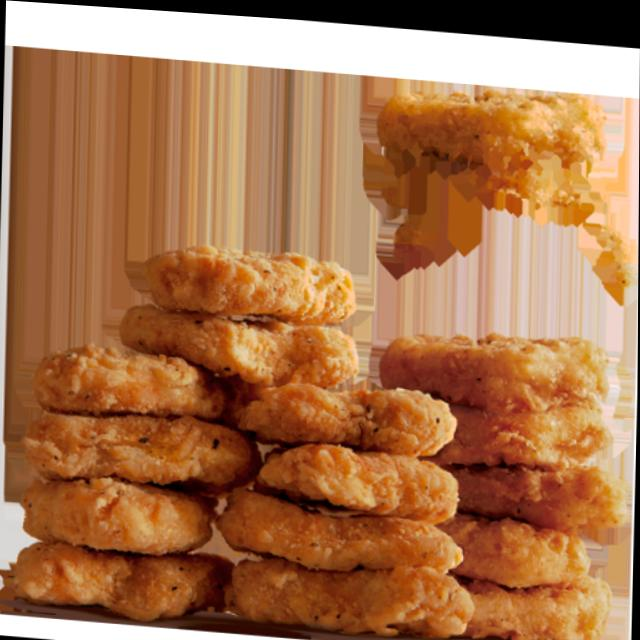chicken_nuggets: (370, 308, 612, 418), (16, 392, 262, 500), (118, 294, 361, 397), (226, 477, 469, 577), (218, 548, 474, 640), (139, 228, 357, 336), (236, 365, 456, 465), (10, 534, 229, 634), (253, 431, 468, 529), (16, 462, 220, 564), (435, 436, 633, 536), (25, 328, 233, 422), (407, 387, 622, 473), (415, 503, 618, 582), (448, 551, 623, 640)
